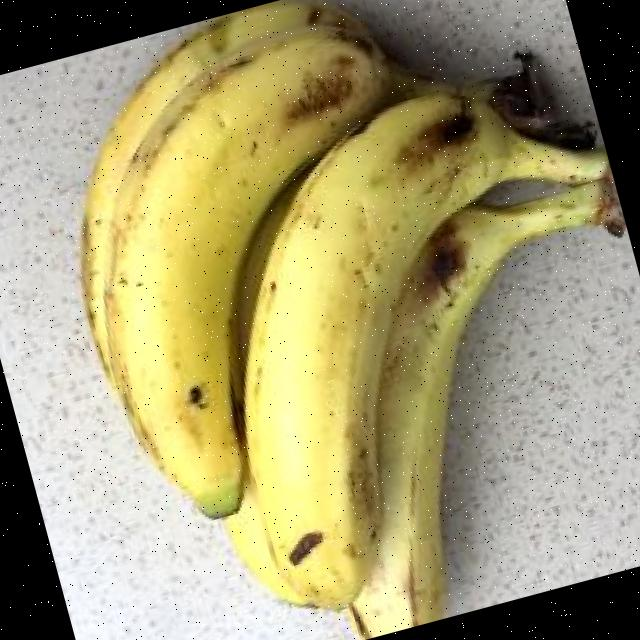banana: (243, 93, 606, 607), (106, 37, 390, 515), (353, 185, 600, 638), (83, 0, 354, 377)
